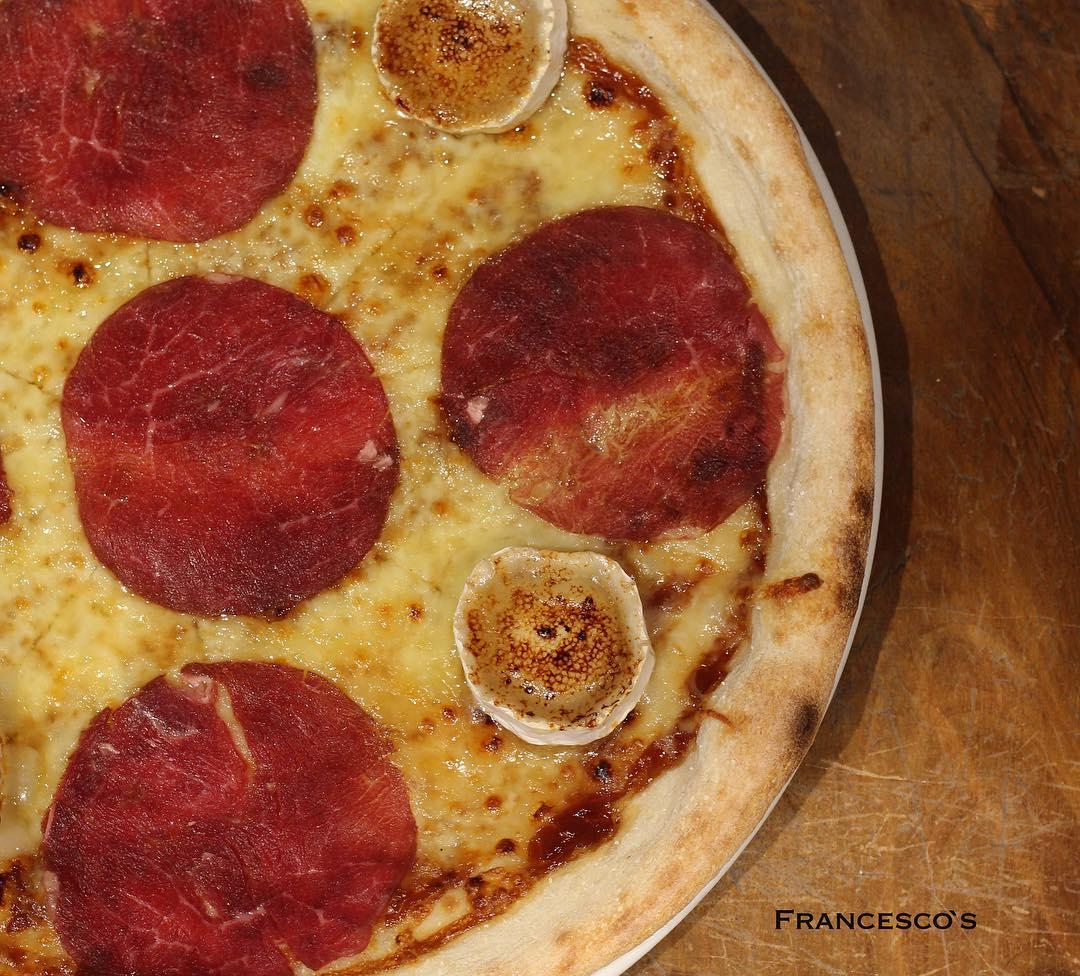Ham: (54, 262, 409, 634), (41, 650, 424, 976), (433, 203, 796, 541), (0, 0, 324, 253)
Pizza: (0, 0, 886, 976)
